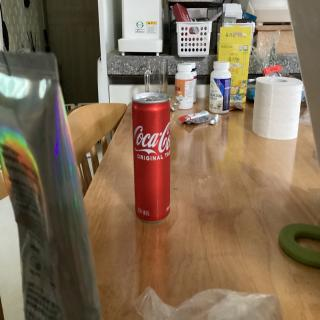cocacola: (130, 90, 176, 222)
